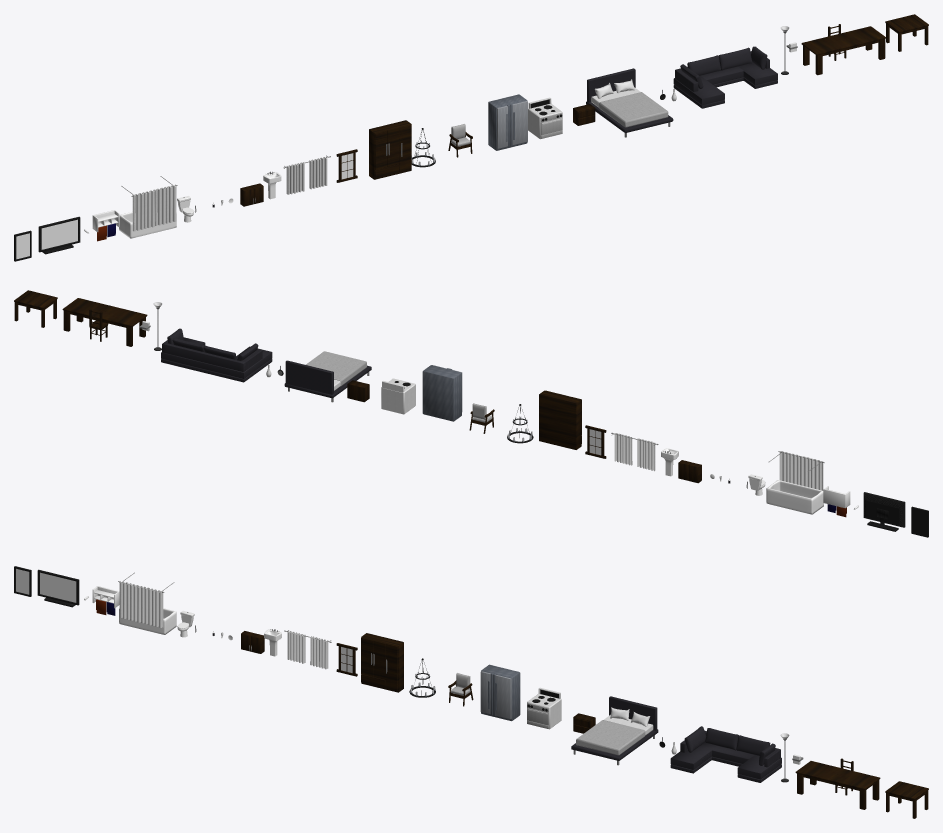
File: Final batch of models.FBX
3 views of the same model, one above another, from view 1: azimuth 30°, elevation 25°; view 2: azimuth 150°, elevation 25°; view 3: azimuth 330°, elevation 25° (orthographic).
Parts seen in each view (by area): view 1: Sofa, Bed, Bathtub, Wardrobe, Fridge, Dining table, TV, Stove, Curtain, Dining table001, Box001, Window frame; view 2: Sofa, Bathtub, Bed, Wardrobe, Fridge, Dining table, TV, Curtain, Stove, Dining table001, Box001, Window frame; view 3: Sofa, Bed, Bathtub, Wardrobe, Fridge, Dining table, TV, Stove, Curtain, Dining table001, Box001, Window frame.
Boxes of the visible parts, x1,y1,x2,y2 form: Sofa: (673, 46, 777, 108); Bed: (586, 68, 673, 137); Bathtub: (119, 176, 177, 238); Wardrobe: (369, 120, 411, 179); Fridge: (488, 94, 527, 150); Dining table: (801, 26, 886, 75); TV: (38, 216, 80, 254); Stove: (528, 97, 562, 139); Curtain: (283, 155, 330, 194); Dining table001: (885, 14, 928, 51); Box001: (92, 210, 119, 241); Window frame: (336, 149, 357, 182); Sofa: (161, 328, 272, 382); Bathtub: (766, 451, 824, 514); Bed: (284, 351, 371, 402); Wardrobe: (539, 390, 581, 449); Fridge: (422, 365, 462, 421); Dining table: (62, 298, 147, 346); TV: (863, 492, 905, 531); Curtain: (611, 432, 658, 471); Stove: (381, 378, 415, 414); Dining table001: (14, 290, 57, 327); Box001: (823, 486, 850, 517); Window frame: (585, 425, 606, 458); Sofa: (670, 726, 781, 782); Bed: (571, 696, 658, 765); Bathtub: (118, 572, 176, 634); Wardrobe: (361, 633, 403, 692); Fridge: (480, 664, 520, 721); Dining table: (795, 761, 880, 809); TV: (37, 569, 79, 607); Stove: (527, 687, 561, 729); Curtain: (284, 630, 331, 669); Dining table001: (885, 781, 928, 818); Box001: (92, 586, 119, 615); Window frame: (336, 643, 357, 676).
Size of the model in its own units: 4357 by 216 by 330.
15 materials, 12 textured.
